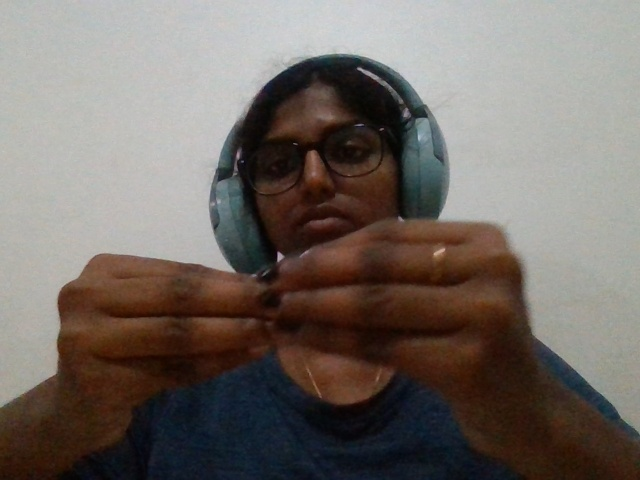More: (24, 206, 573, 458)
